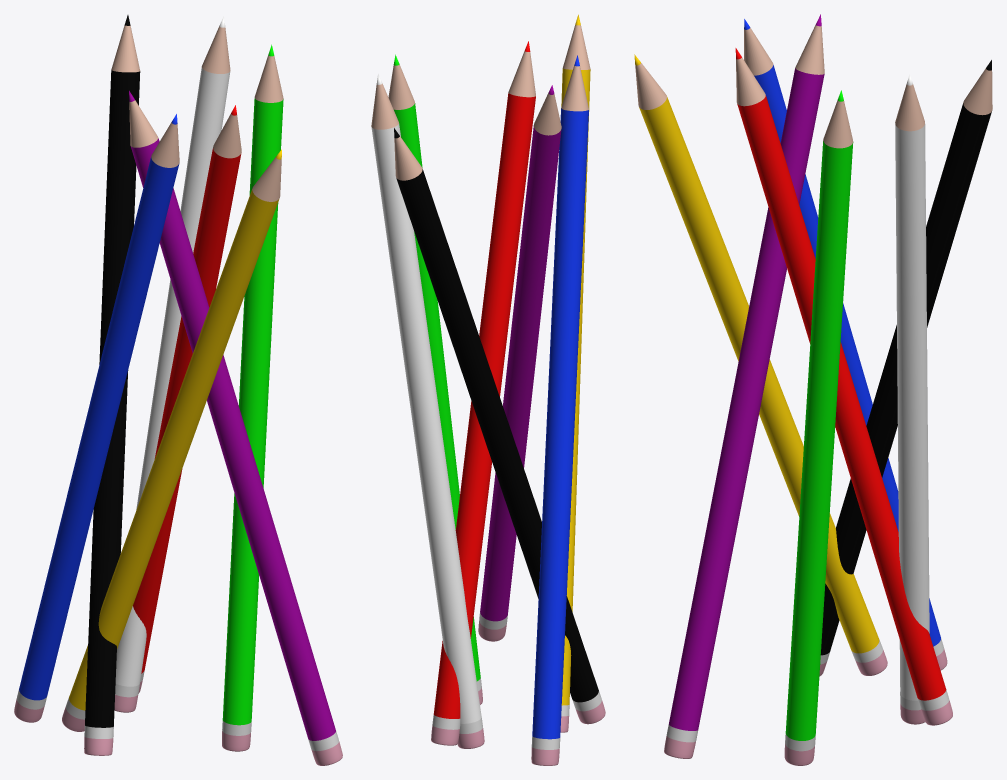
Rendered from uploads_files_5494288_Pencils.fbx.
3 views of the same model, side by side, from view 1: azimuth 30°, elevation 25°; view 2: azimuth 150°, elevation 25°; view 3: azimuth 270°, elevation 25° (orthographic). The views are drawn at different scales.
Parts seen in each view (by area): view 1: BluePencil, PurplePencil, YellowPencil, BlackPencil, GreenPencil, WhitePencil, RedPencil; view 2: BluePencil, WhitePencil, RedPencil, BlackPencil, PurplePencil, GreenPencil, YellowPencil; view 3: PurplePencil, GreenPencil, RedPencil, WhitePencil, YellowPencil, BlackPencil, BluePencil.
Boxes of the visible parts, x1,y1,x2,y2 form: BluePencil: (14,114,179,722); PurplePencil: (129,90,342,765); YellowPencil: (62,149,281,731); BlackPencil: (84,15,140,755); GreenPencil: (222,44,283,751); WhitePencil: (114,16,230,712); RedPencil: (133,105,241,693); BluePencil: (531,55,588,765); WhitePencil: (371,74,484,748); RedPencil: (431,41,535,745); BlackPencil: (394,128,605,724); PurplePencil: (478,85,561,641); GreenPencil: (388,54,482,704); YellowPencil: (560,14,590,732); PurplePencil: (664,14,824,758); GreenPencil: (784,90,853,765); RedPencil: (735,48,952,725); WhitePencil: (895,74,929,724); YellowPencil: (634,54,887,675); BlackPencil: (819,60,992,676); BluePencil: (744,19,947,670).
Size of the model in its own units: 13.97 by 41.48 by 19.03.
